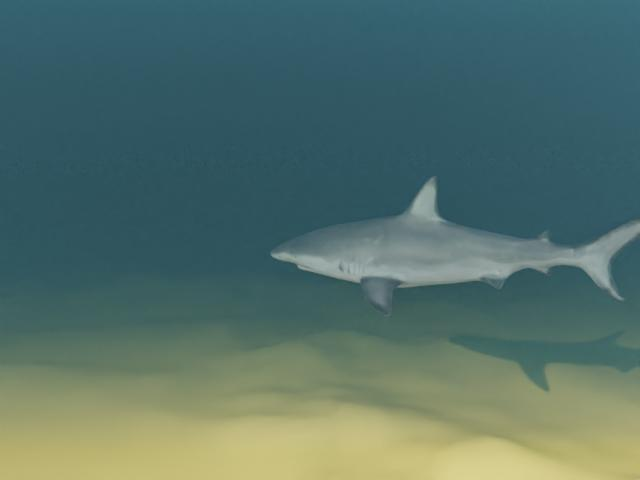Carribean Shark.001: (270, 175, 640, 316)
